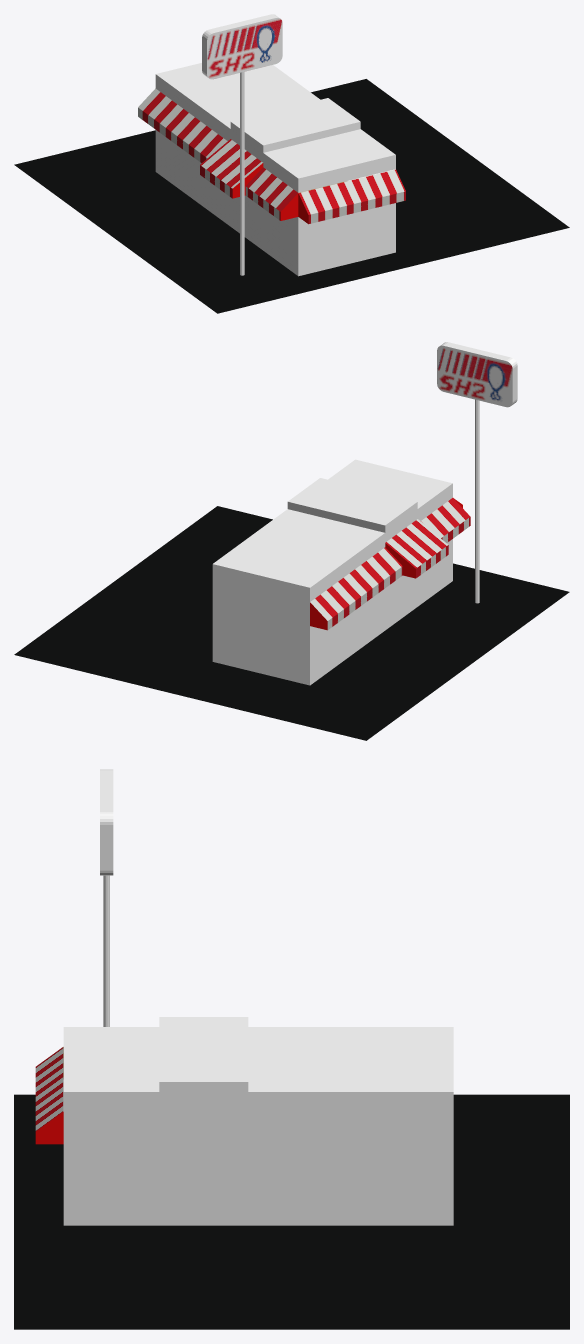
The model's file is 08_kfcn.obj.
The picture shows the model from 3 angles, top to bottom: view 1: azimuth 30°, elevation 25°; view 2: azimuth 150°, elevation 25°; view 3: azimuth 270°, elevation 25°; orthographic projection. The views are drawn at different scales.
Visible parts, largest first — view 1: 08_kfcn_Plane.003; view 2: 08_kfcn_Plane.003; view 3: 08_kfcn_Plane.003.
Boxes of the visible parts, bbox=[...] form: 08_kfcn_Plane.003: bbox=[14, 14, 569, 313]; 08_kfcn_Plane.003: bbox=[14, 342, 569, 740]; 08_kfcn_Plane.003: bbox=[14, 769, 569, 1329].
Size of the model in its own units: 1.6 by 1.09 by 1.6.
